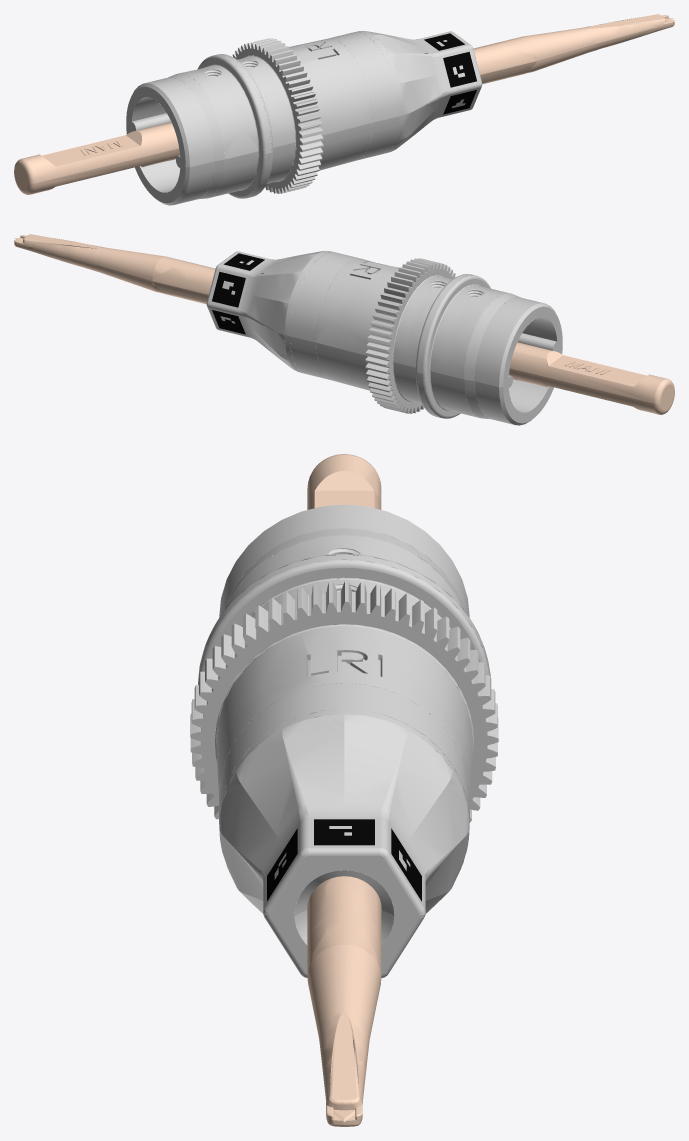
File: LRI.dae
3 views of the same model, one above another, from view 1: azimuth 30°, elevation 25°; view 2: azimuth 150°, elevation 25°; view 3: azimuth 270°, elevation 25° (orthographic). The views are drawn at different scales.
Visible parts, largest first — view 1: LRI_600_micron; view 2: LRI_600_micron; view 3: LRI_600_micron.
Part boxes in pixels (x1,y1,x2,y2): LRI_600_micron: [14, 14, 674, 205]; LRI_600_micron: [14, 234, 674, 425]; LRI_600_micron: [190, 454, 498, 1126].
Bounding box in the file's own units: 123 × 25.2 × 25.2.
